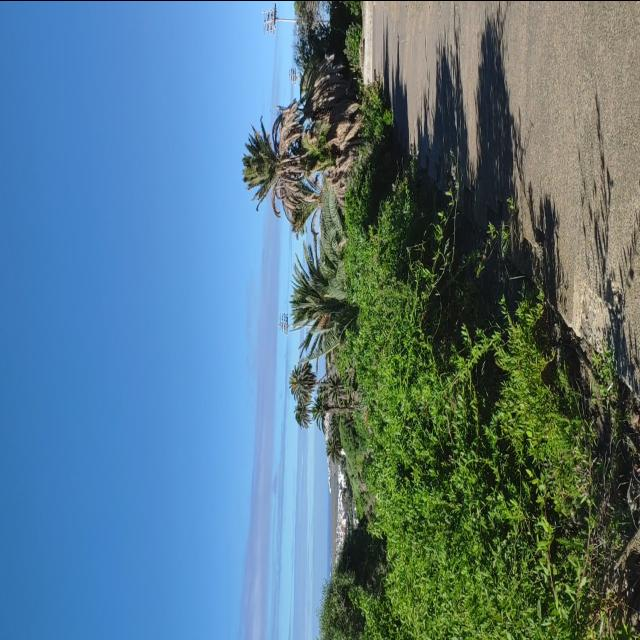Palm-Trees: (240, 118, 332, 206), (292, 238, 354, 354), (289, 358, 341, 405)
